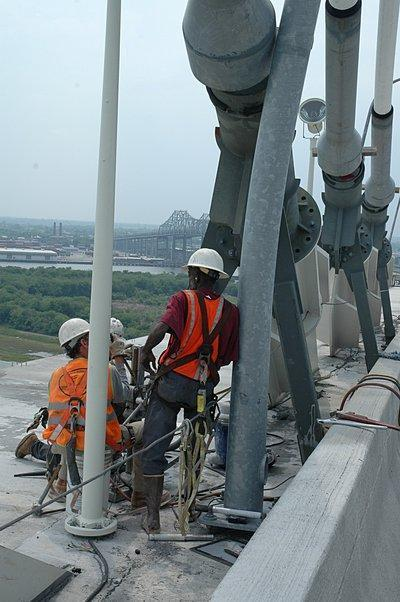vest: (46, 353, 120, 462), (167, 281, 226, 402)
